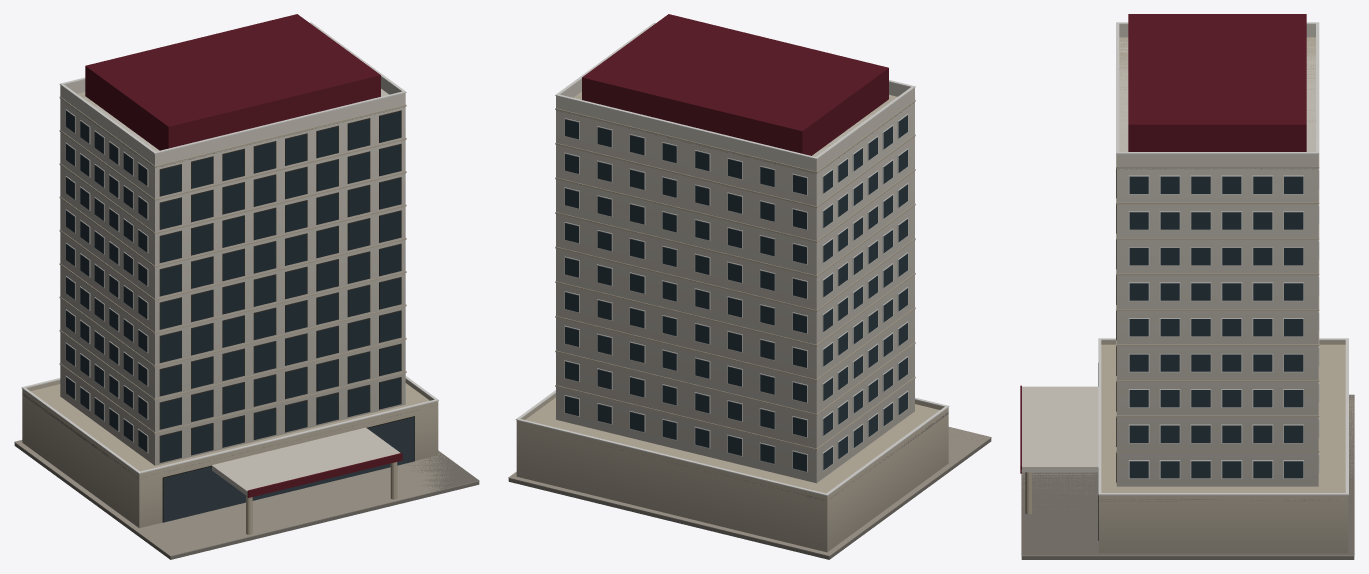
File: ns_hotel_lod1.glb
3 renders of one model, left to right at view 1: azimuth 30°, elevation 25°; view 2: azimuth 150°, elevation 25°; view 3: azimuth 270°, elevation 25°, orthographic. The views are drawn at different scales.
Visible parts, largest first — view 1: ns_hotel_lod1; view 2: ns_hotel_lod1; view 3: ns_hotel_lod1.
Boxes of the visible parts, x1=… form: ns_hotel_lod1: x1=14, y1=14, x2=479, y2=559; ns_hotel_lod1: x1=508, y1=14, x2=991, y2=559; ns_hotel_lod1: x1=1020, y1=14, x2=1354, y2=559.
Bounding box in the file's own units: 32.06 × 38.1 × 28.13.
